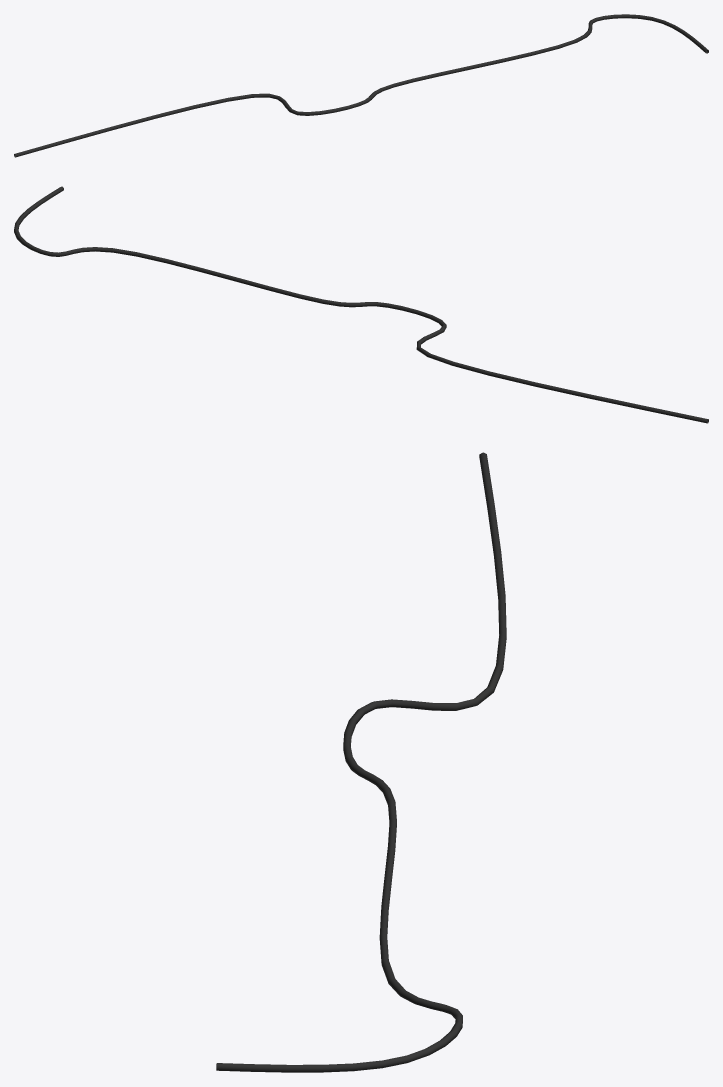
The model's file is SM_Stage_Final_Wire_botton_02.fbx.
The picture shows the model from 3 angles, top to bottom: view 1: azimuth 30°, elevation 25°; view 2: azimuth 150°, elevation 25°; view 3: azimuth 270°, elevation 25°; orthographic projection. The views are drawn at different scales.
Visible parts, largest first — view 1: SM_Stage_Final_Wire_botton_02; view 2: SM_Stage_Final_Wire_botton_02; view 3: SM_Stage_Final_Wire_botton_02.
Part boxes in pixels (x1,y1,x2,y2): SM_Stage_Final_Wire_botton_02: [14, 14, 708, 157]; SM_Stage_Final_Wire_botton_02: [14, 186, 708, 423]; SM_Stage_Final_Wire_botton_02: [216, 452, 506, 1072].
Bounding box in the file's own units: 635 × 3.75 × 127.
1 material, 1 textured.
